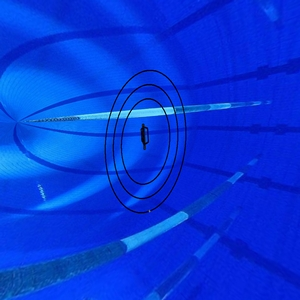circle: (102, 64, 193, 225)
submarine: (135, 124, 156, 153)
